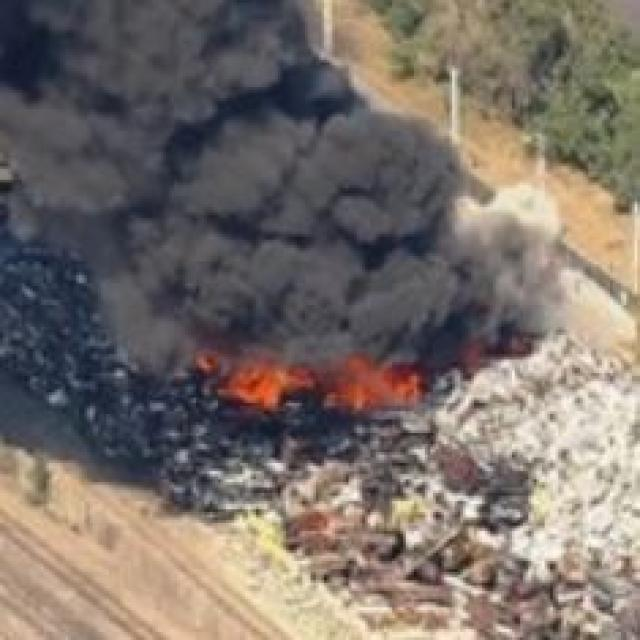Fire: (214, 346, 308, 436), (330, 356, 420, 426)
Smoke: (60, 9, 475, 358)
